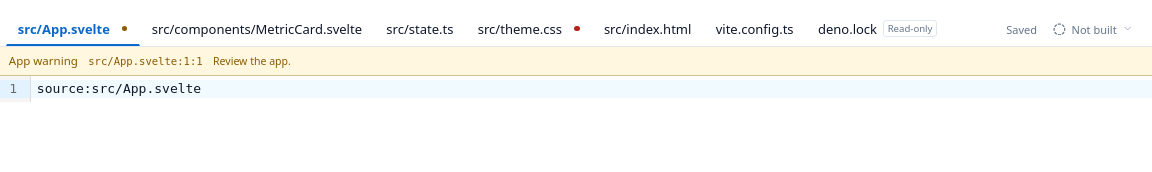
it: shows the active document diagnostic and marks each tab with its highest severity
The width and height of the screenshot is (1152, 172).
Expected: the message "App warning src/App.svelte:1:1 Review the app." is shown, x1=0 y1=47 x2=1151 y2=76
Click the tab "src/theme.css" at (529, 29), box x1=466 y1=12 x2=592 y2=46
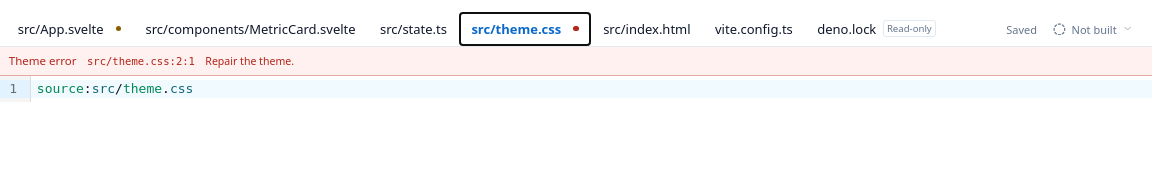
Now the message "Theme error src/theme.css:2:1 Repair the theme." is shown, box x1=0 y1=47 x2=1151 y2=76
